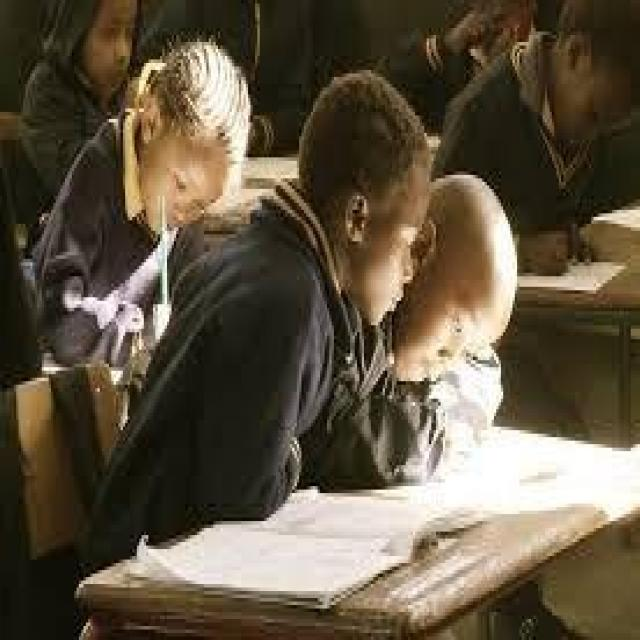person: (86, 60, 424, 588), (16, 28, 253, 350), (441, 0, 619, 294), (368, 147, 528, 455), (0, 0, 174, 280)
